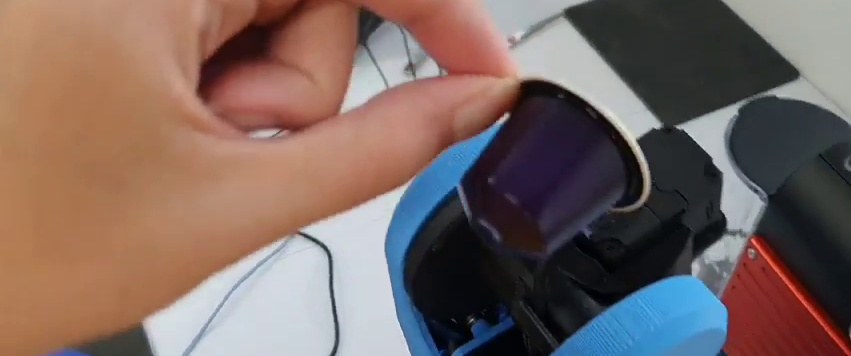capsule_2: (457, 72, 653, 258)
